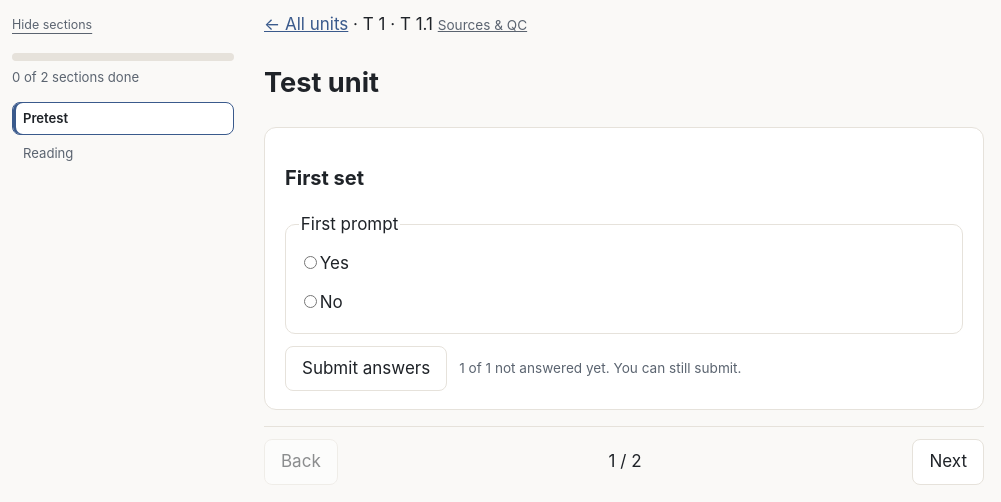
UnitPlayer › marks a final non-interactive component complete on view
The width and height of the screenshot is (1001, 502).
Click the radio button labelled "Yes" at (310, 263), box [304,256,317,269]
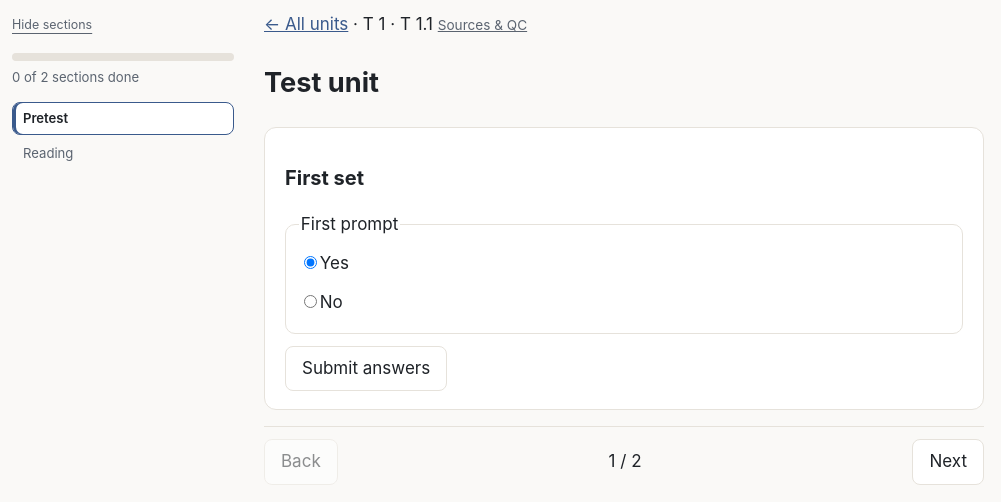
Click the button "Submit answers" at (366, 369), box [285,346,447,391]
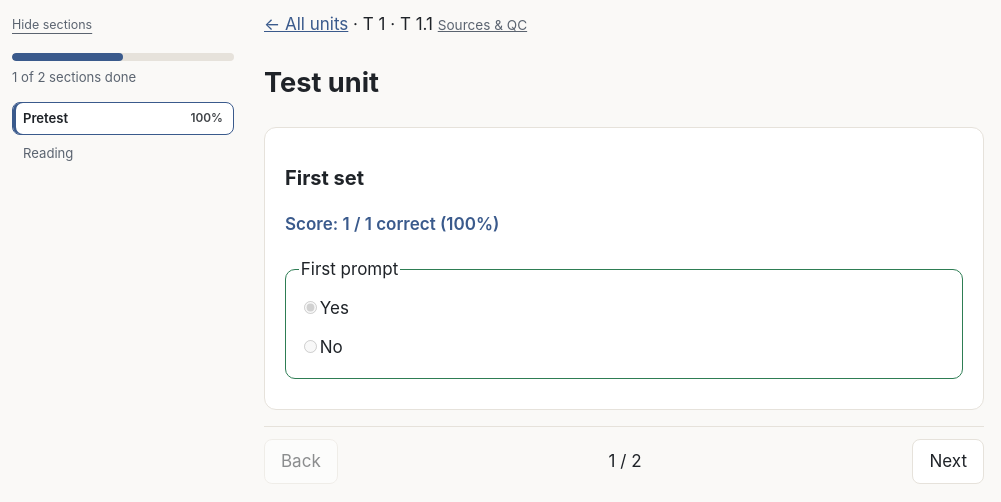
Click the button "Next" at (948, 461), box [912,439,984,484]
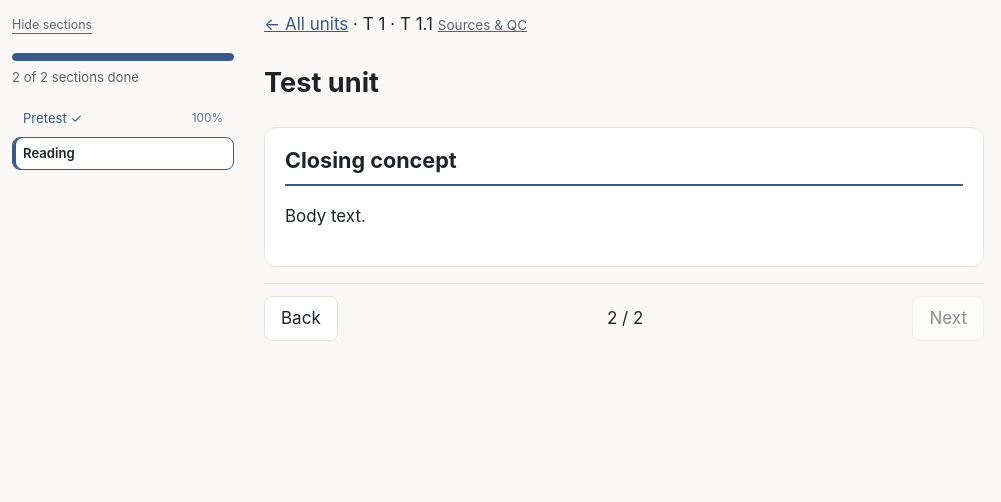
Expected: the heading "Closing concept" is shown, [285,146,963,186]
